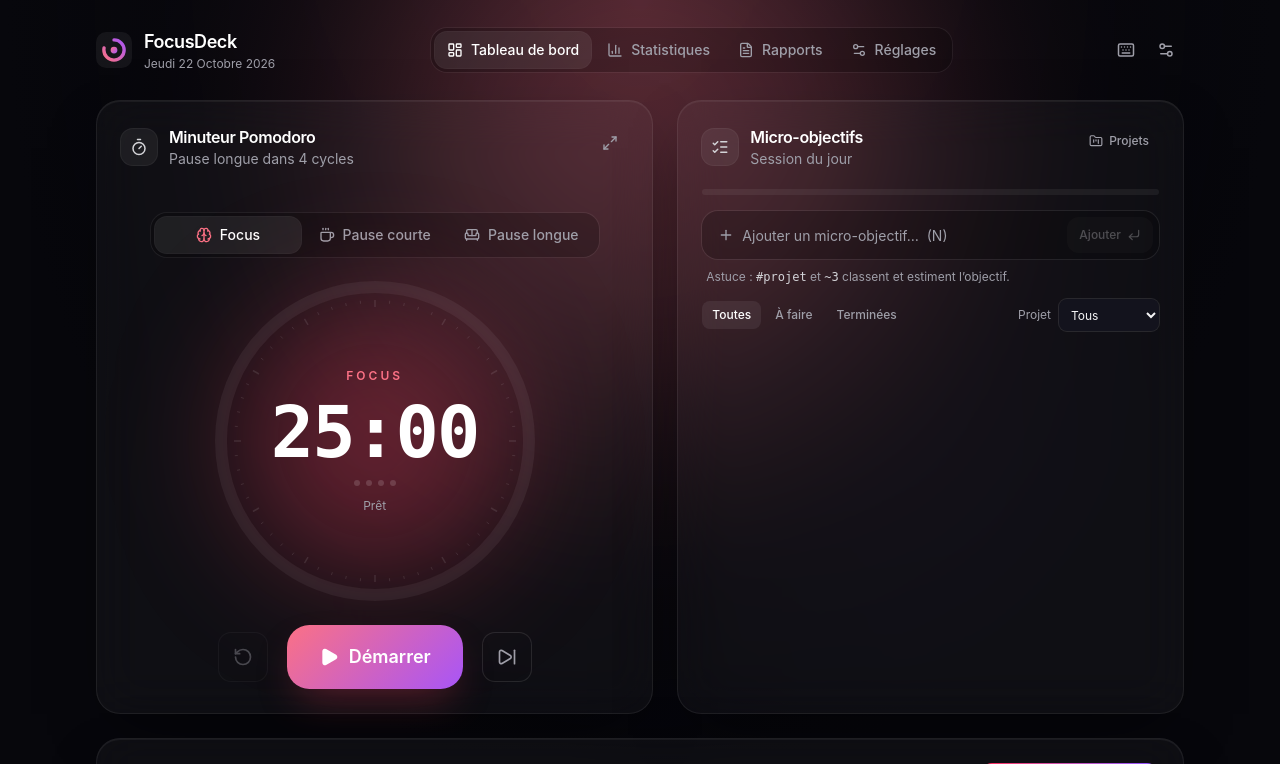
Test: Saisie rapide (EF-O07) › affiche les jetons reconnus et crée la tâche classée et estimée
Step 1. Type "Maquette accueil #site ~3" into the field named "Nouvel objectif" → point(901, 235), box [742, 217, 1059, 253]
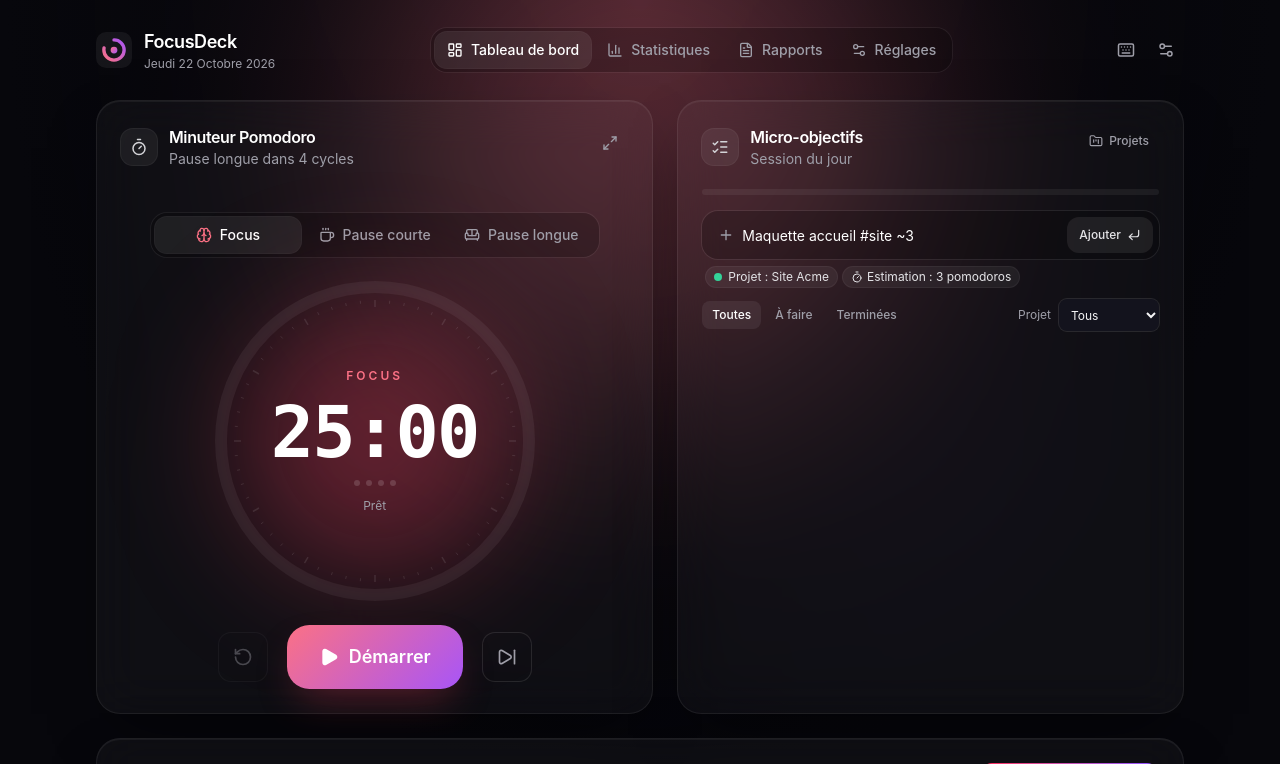
Step 2. Submit the form named "Nouvel objectif", box [702, 211, 1159, 259]
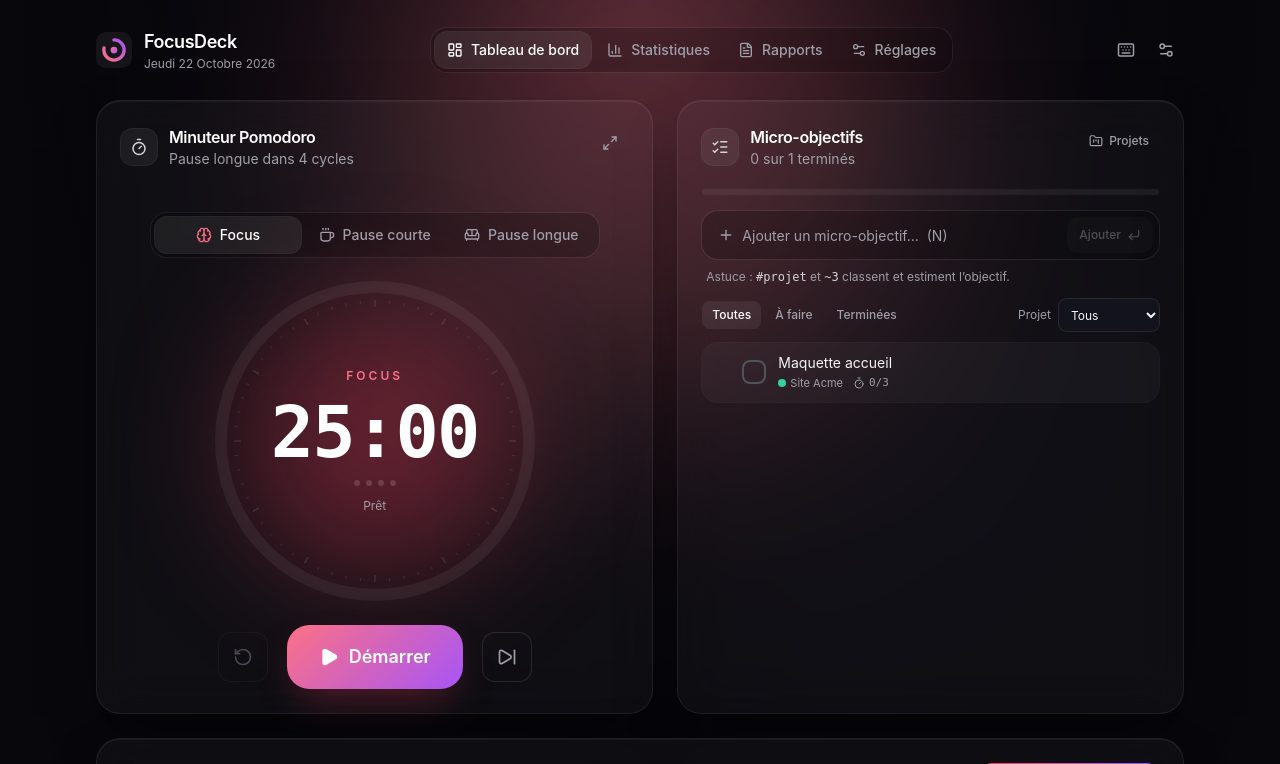
Now the checkbox named "Maquette accueil" is shown, box [742, 360, 766, 384]
